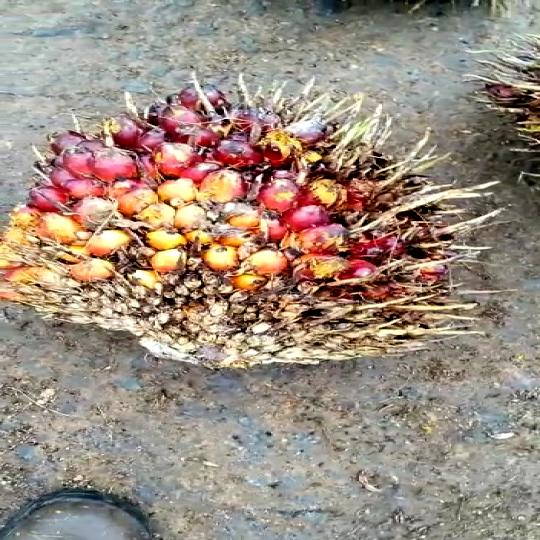masak: (0, 80, 457, 371)
